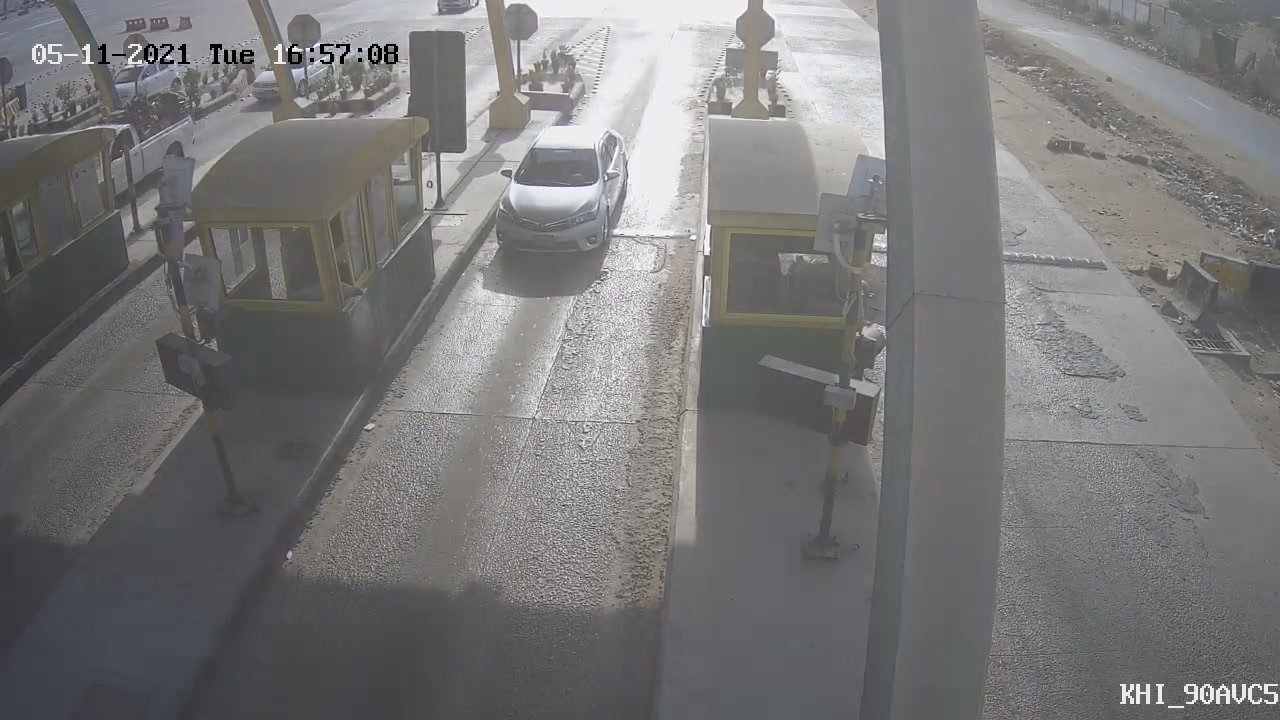F1: (468, 108, 652, 279)
